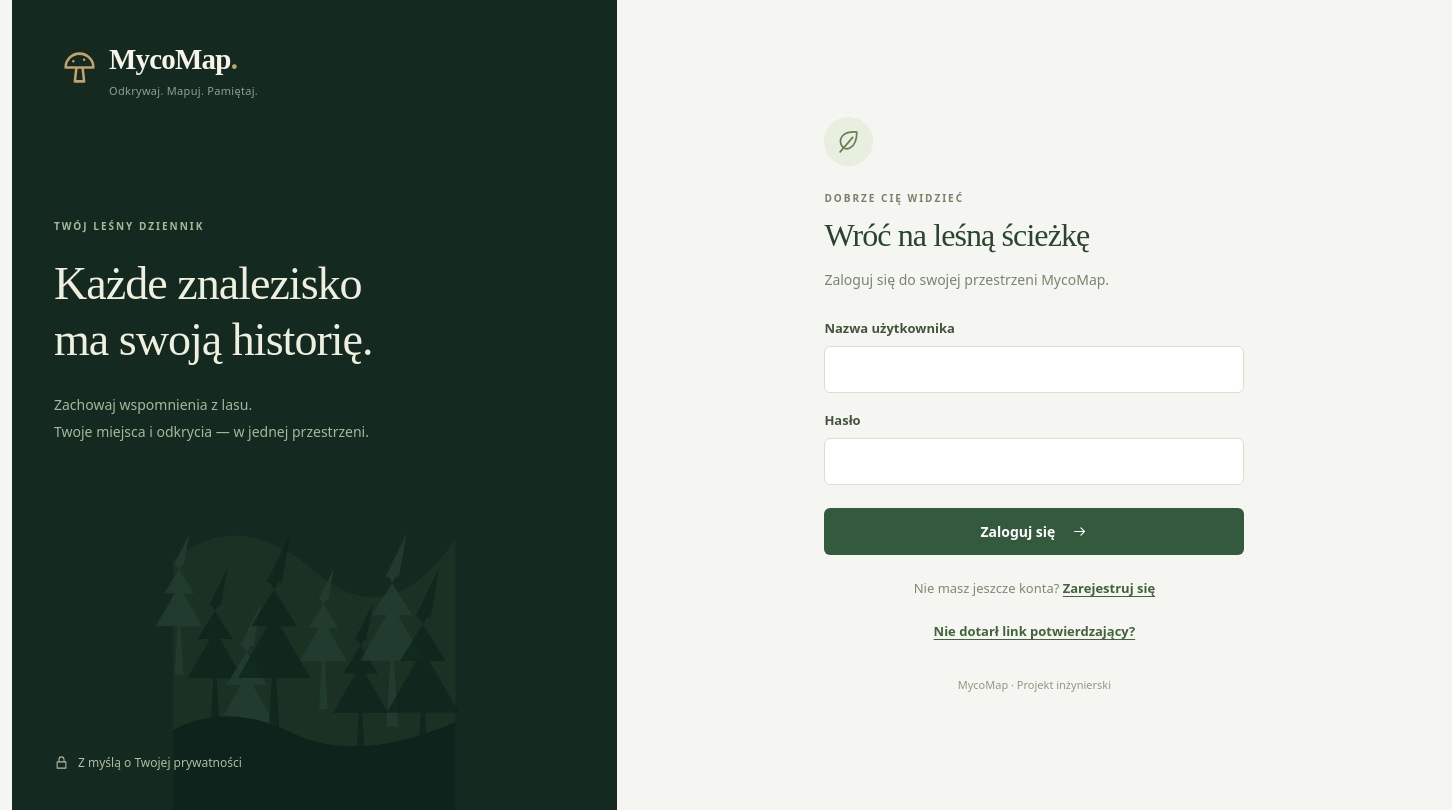
pokazuje błąd hasła, loguje do pulpitu i usuwa dane konta po wylogowaniu
Type "LesnyStudent" into the field labelled "Nazwa użytkownika" at [1034, 370], box [824,346,1244,393]
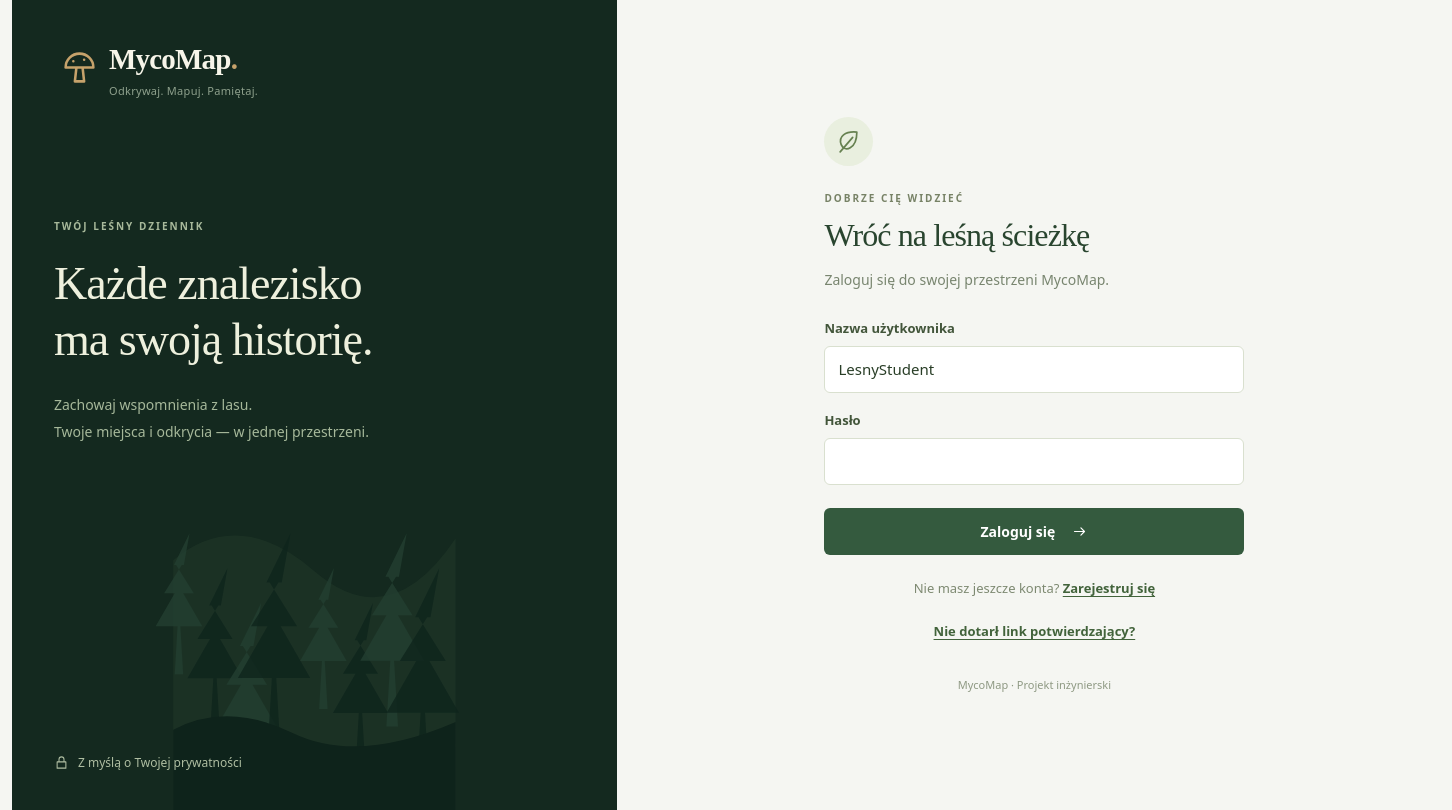
Type "bad-password" into the password field labelled "Hasło" at [1034, 462], box [824,438,1244,485]
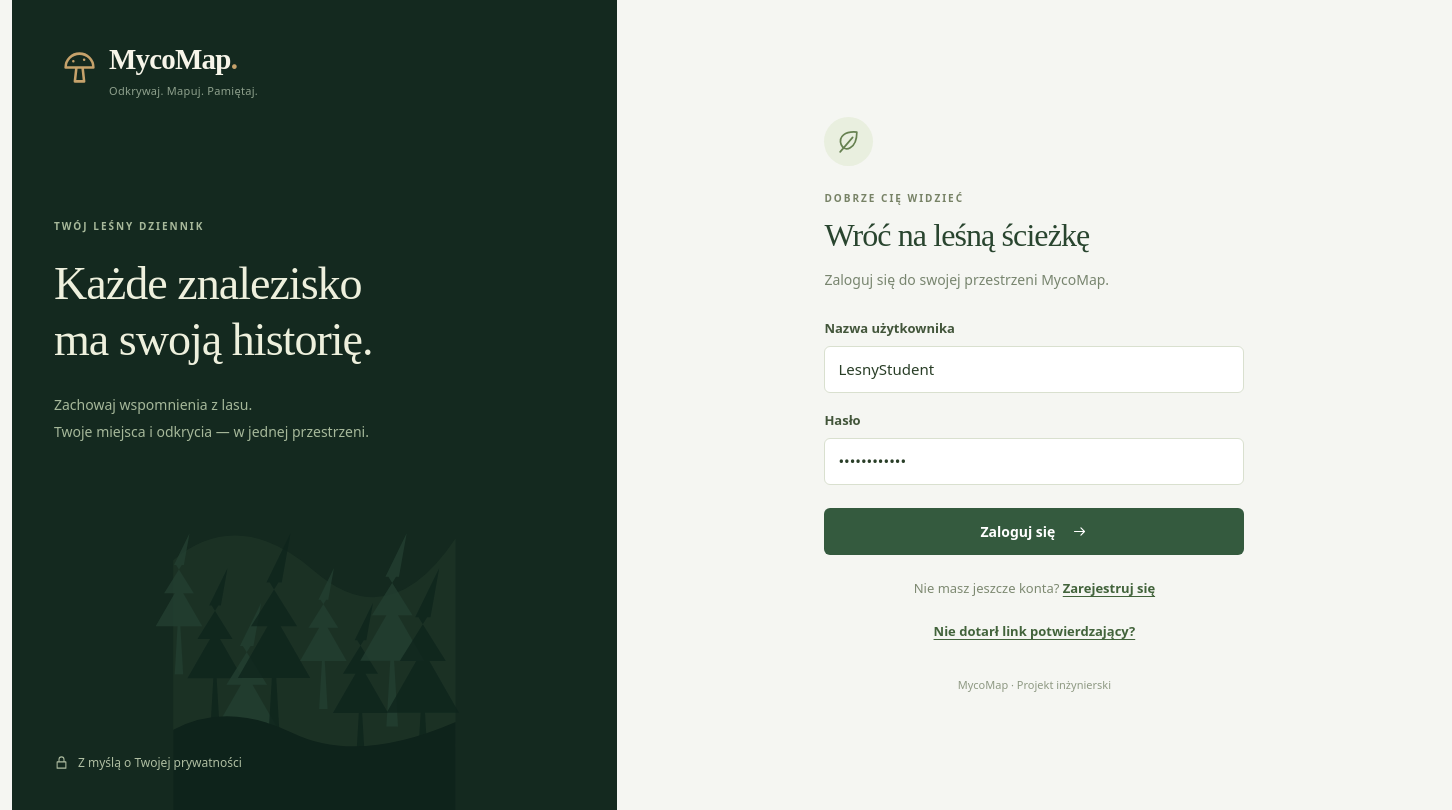
Click the button "Zaloguj się" at [1034, 531], box [824,508,1244,555]
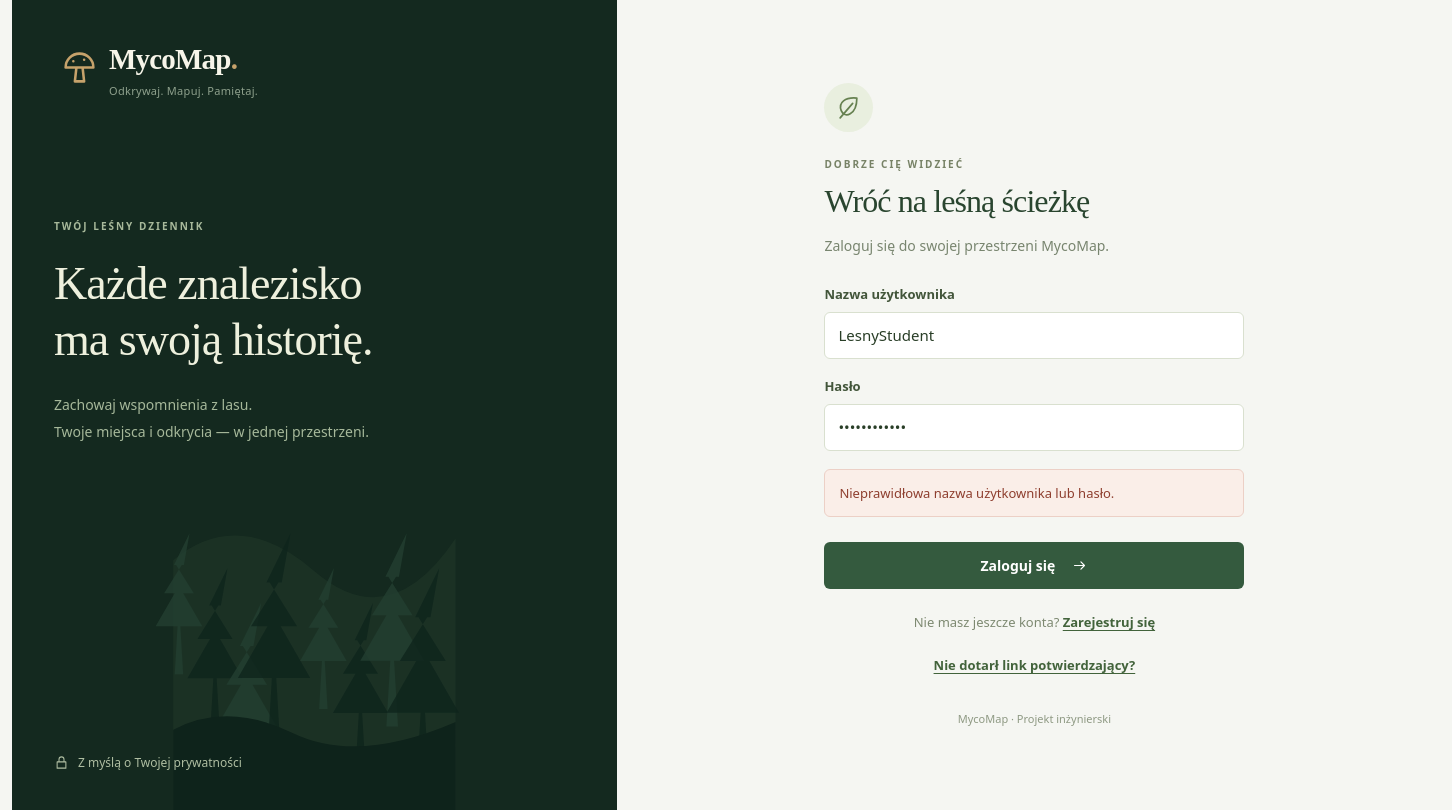
Expected: the button "Zaloguj się" is enabled, [824,542,1244,589]
Result: the message reads "Nieprawidłowa nazwa użytkownika lub hasło." at [839,484,1114,502]
Type "Lesna-wyprawa-2026" into the password field labelled "Hasło" at [1034, 428], box [824,404,1244,451]
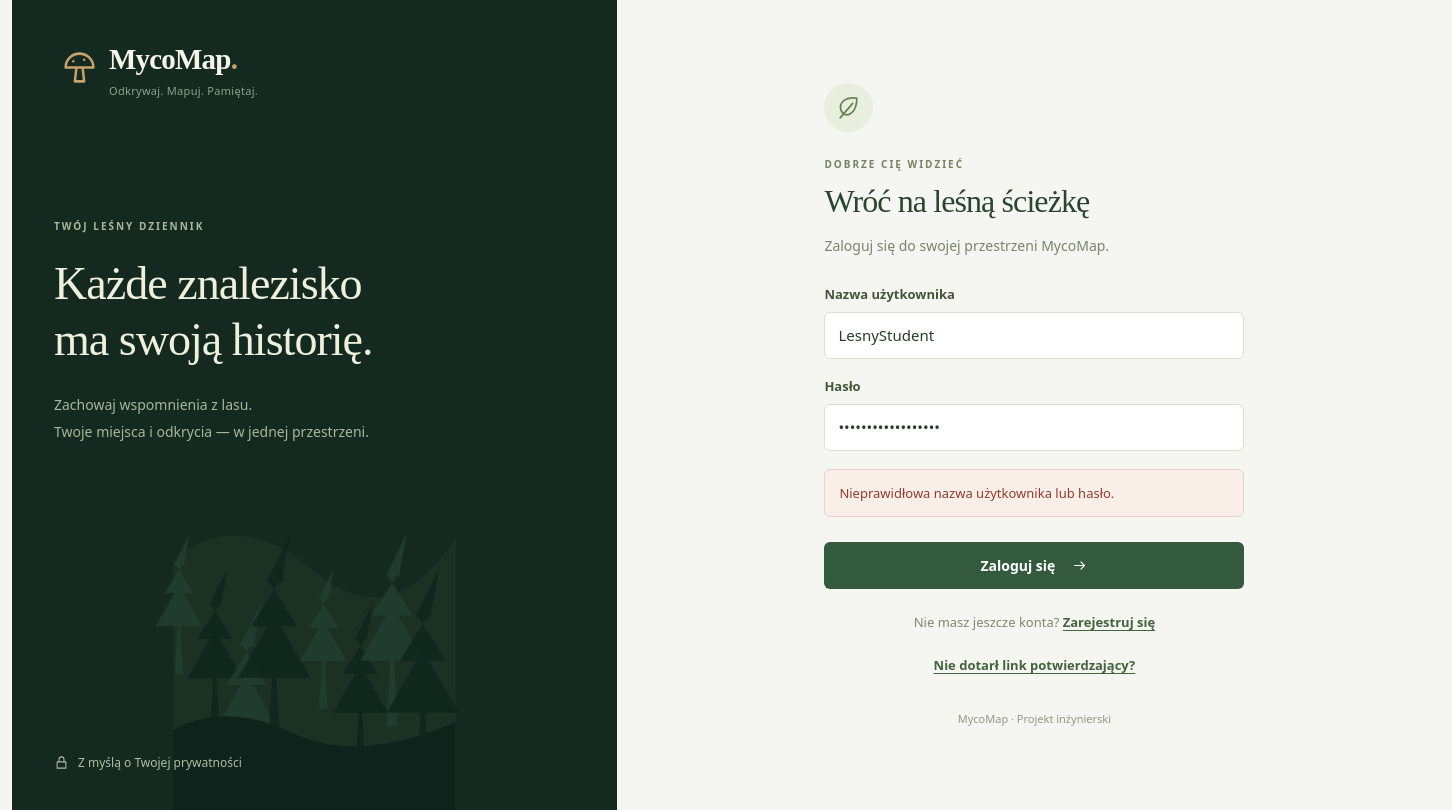
Click the button "Zaloguj się" at [1034, 565], box [824,542,1244,589]
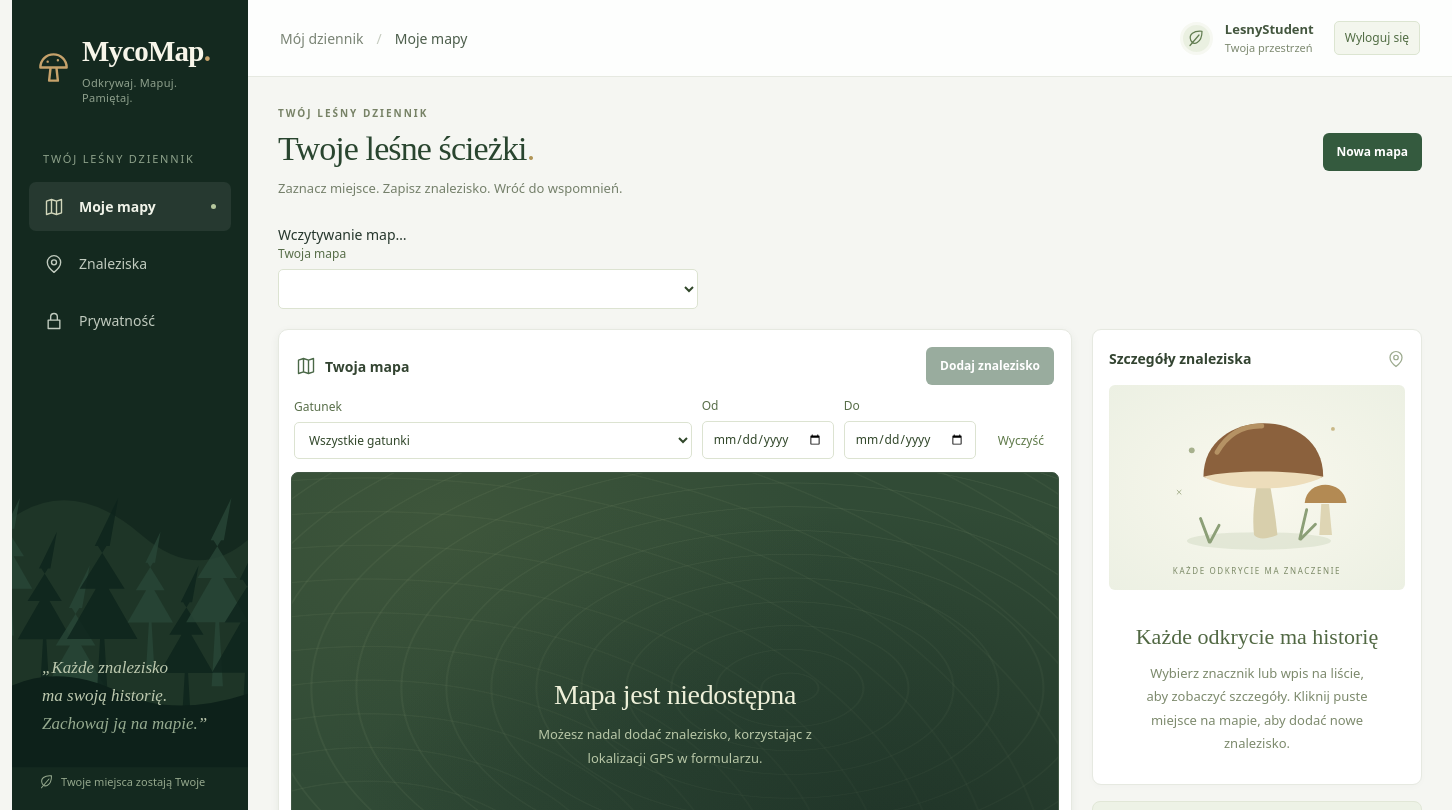
Result: the text "LesnyStudent" is shown at [1225,20,1314,38]
Click the button "Wyloguj się" at [1377, 38], box [1334,21,1420,55]
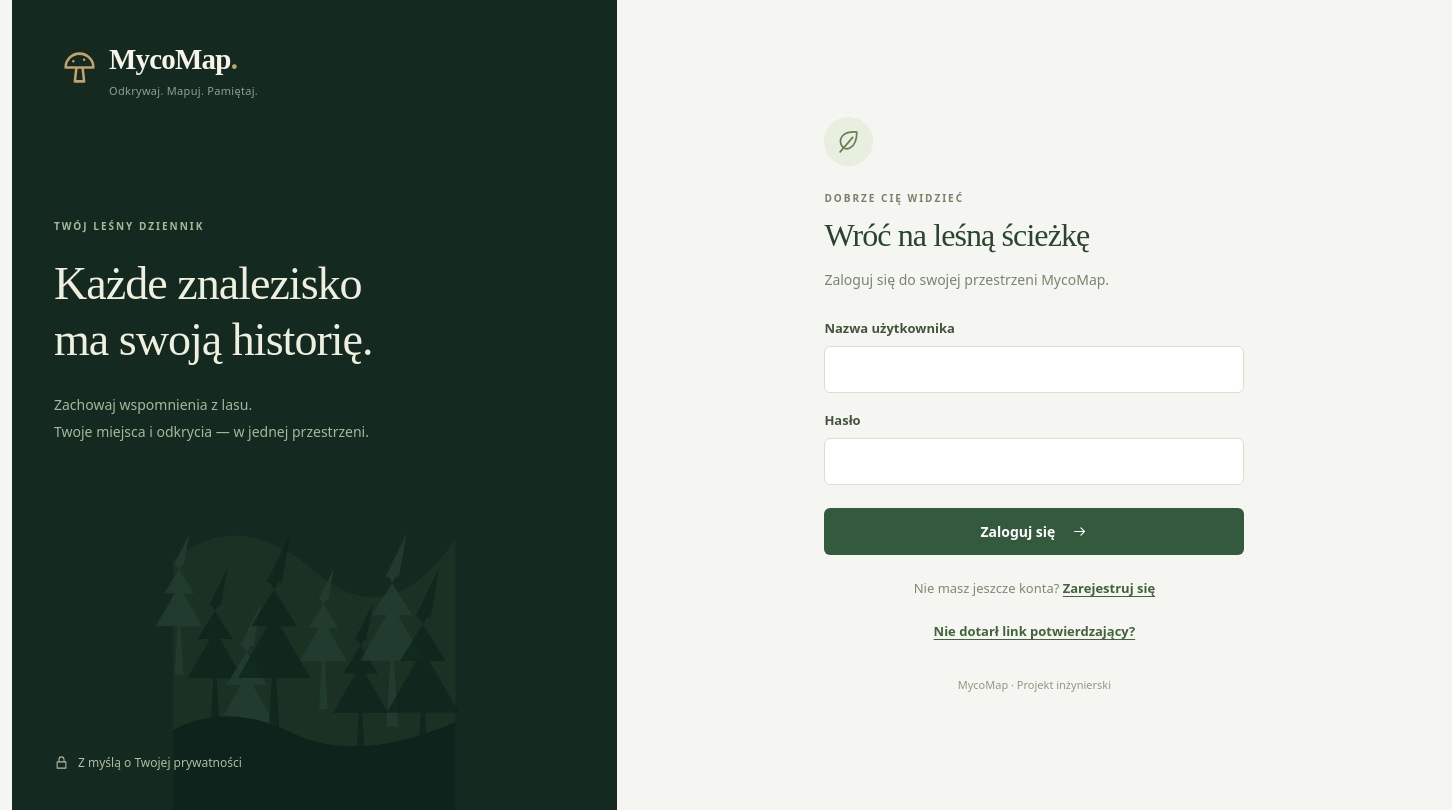
Result: the heading "Wróć na leśną ścieżkę" is shown at [824,217,1089,253]
Result: the text "LesnyStudent" is gone
